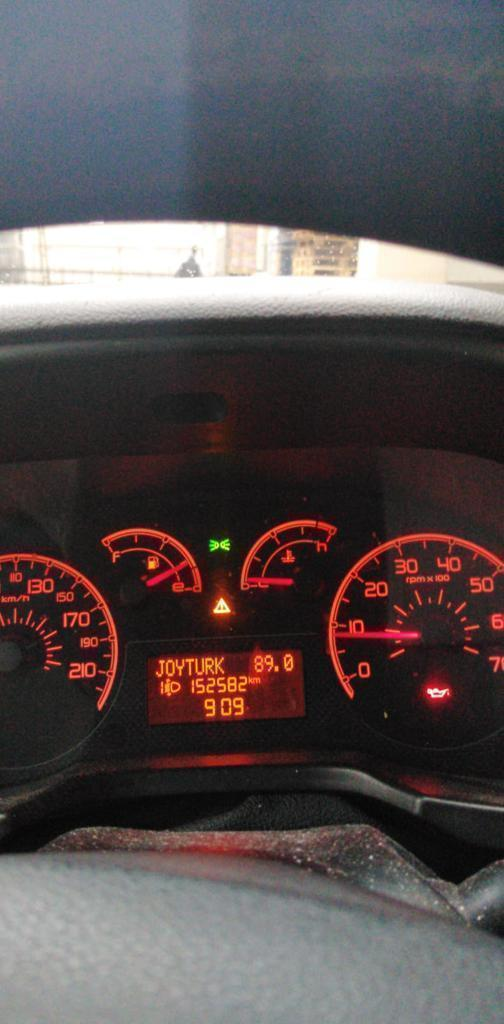,: (274, 664, 279, 672)
0: (219, 696, 232, 717), (282, 652, 295, 672)
1: (159, 679, 164, 696), (190, 678, 194, 695)
2: (205, 677, 215, 694), (238, 675, 247, 692)
5: (216, 676, 226, 693), (195, 677, 205, 694)
8: (253, 654, 263, 673), (227, 676, 237, 693)
9: (232, 696, 244, 716), (204, 697, 216, 717), (264, 653, 274, 672)
X: (184, 656, 194, 676), (153, 658, 163, 678), (204, 656, 214, 675), (194, 657, 204, 675), (215, 656, 225, 674), (175, 657, 184, 677), (165, 659, 174, 677), (253, 676, 261, 683), (247, 675, 252, 684)
odometer: (142, 647, 312, 726)
